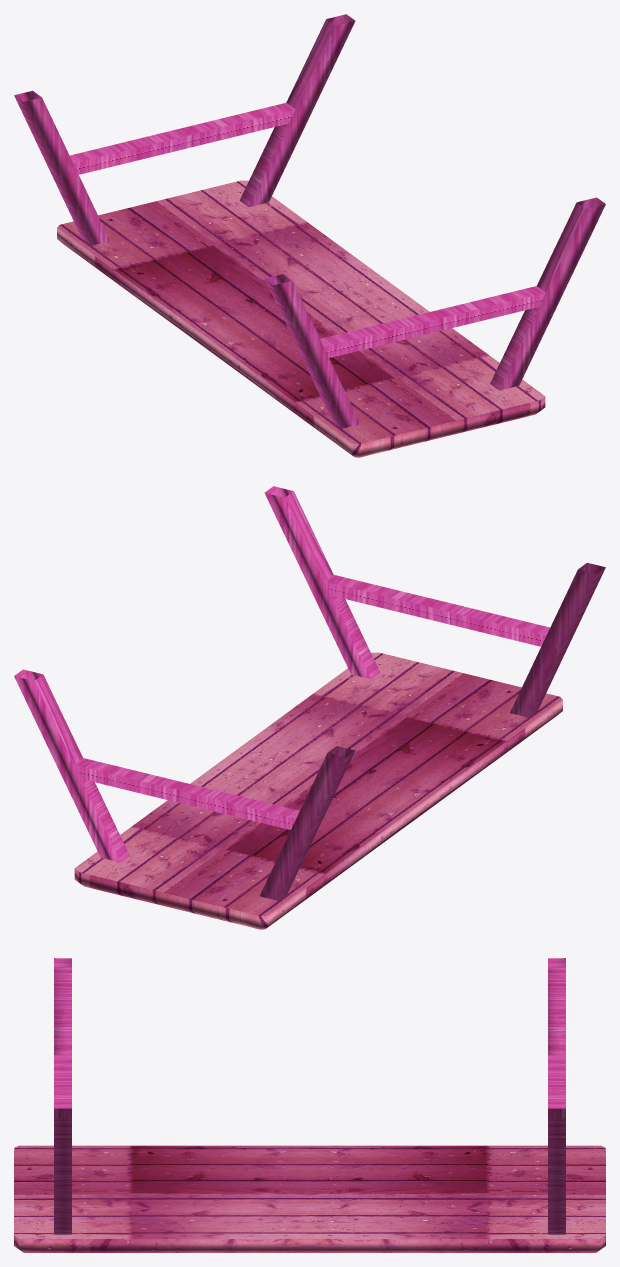
Rendered from Bench.FBX.
3 views of the same model, one above another, from view 1: azimuth 30°, elevation 25°; view 2: azimuth 150°, elevation 25°; view 3: azimuth 270°, elevation 25° (orthographic).
Parts seen in each view (by area): view 1: Bench; view 2: Bench; view 3: Bench.
Part boxes in pixels (x1,y1,x2,y2): Bench: [14, 14, 605, 457]; Bench: [14, 486, 605, 929]; Bench: [14, 958, 605, 1252].
Bounding box in the file's own units: 22.5 × 11.45 × 35.16.
